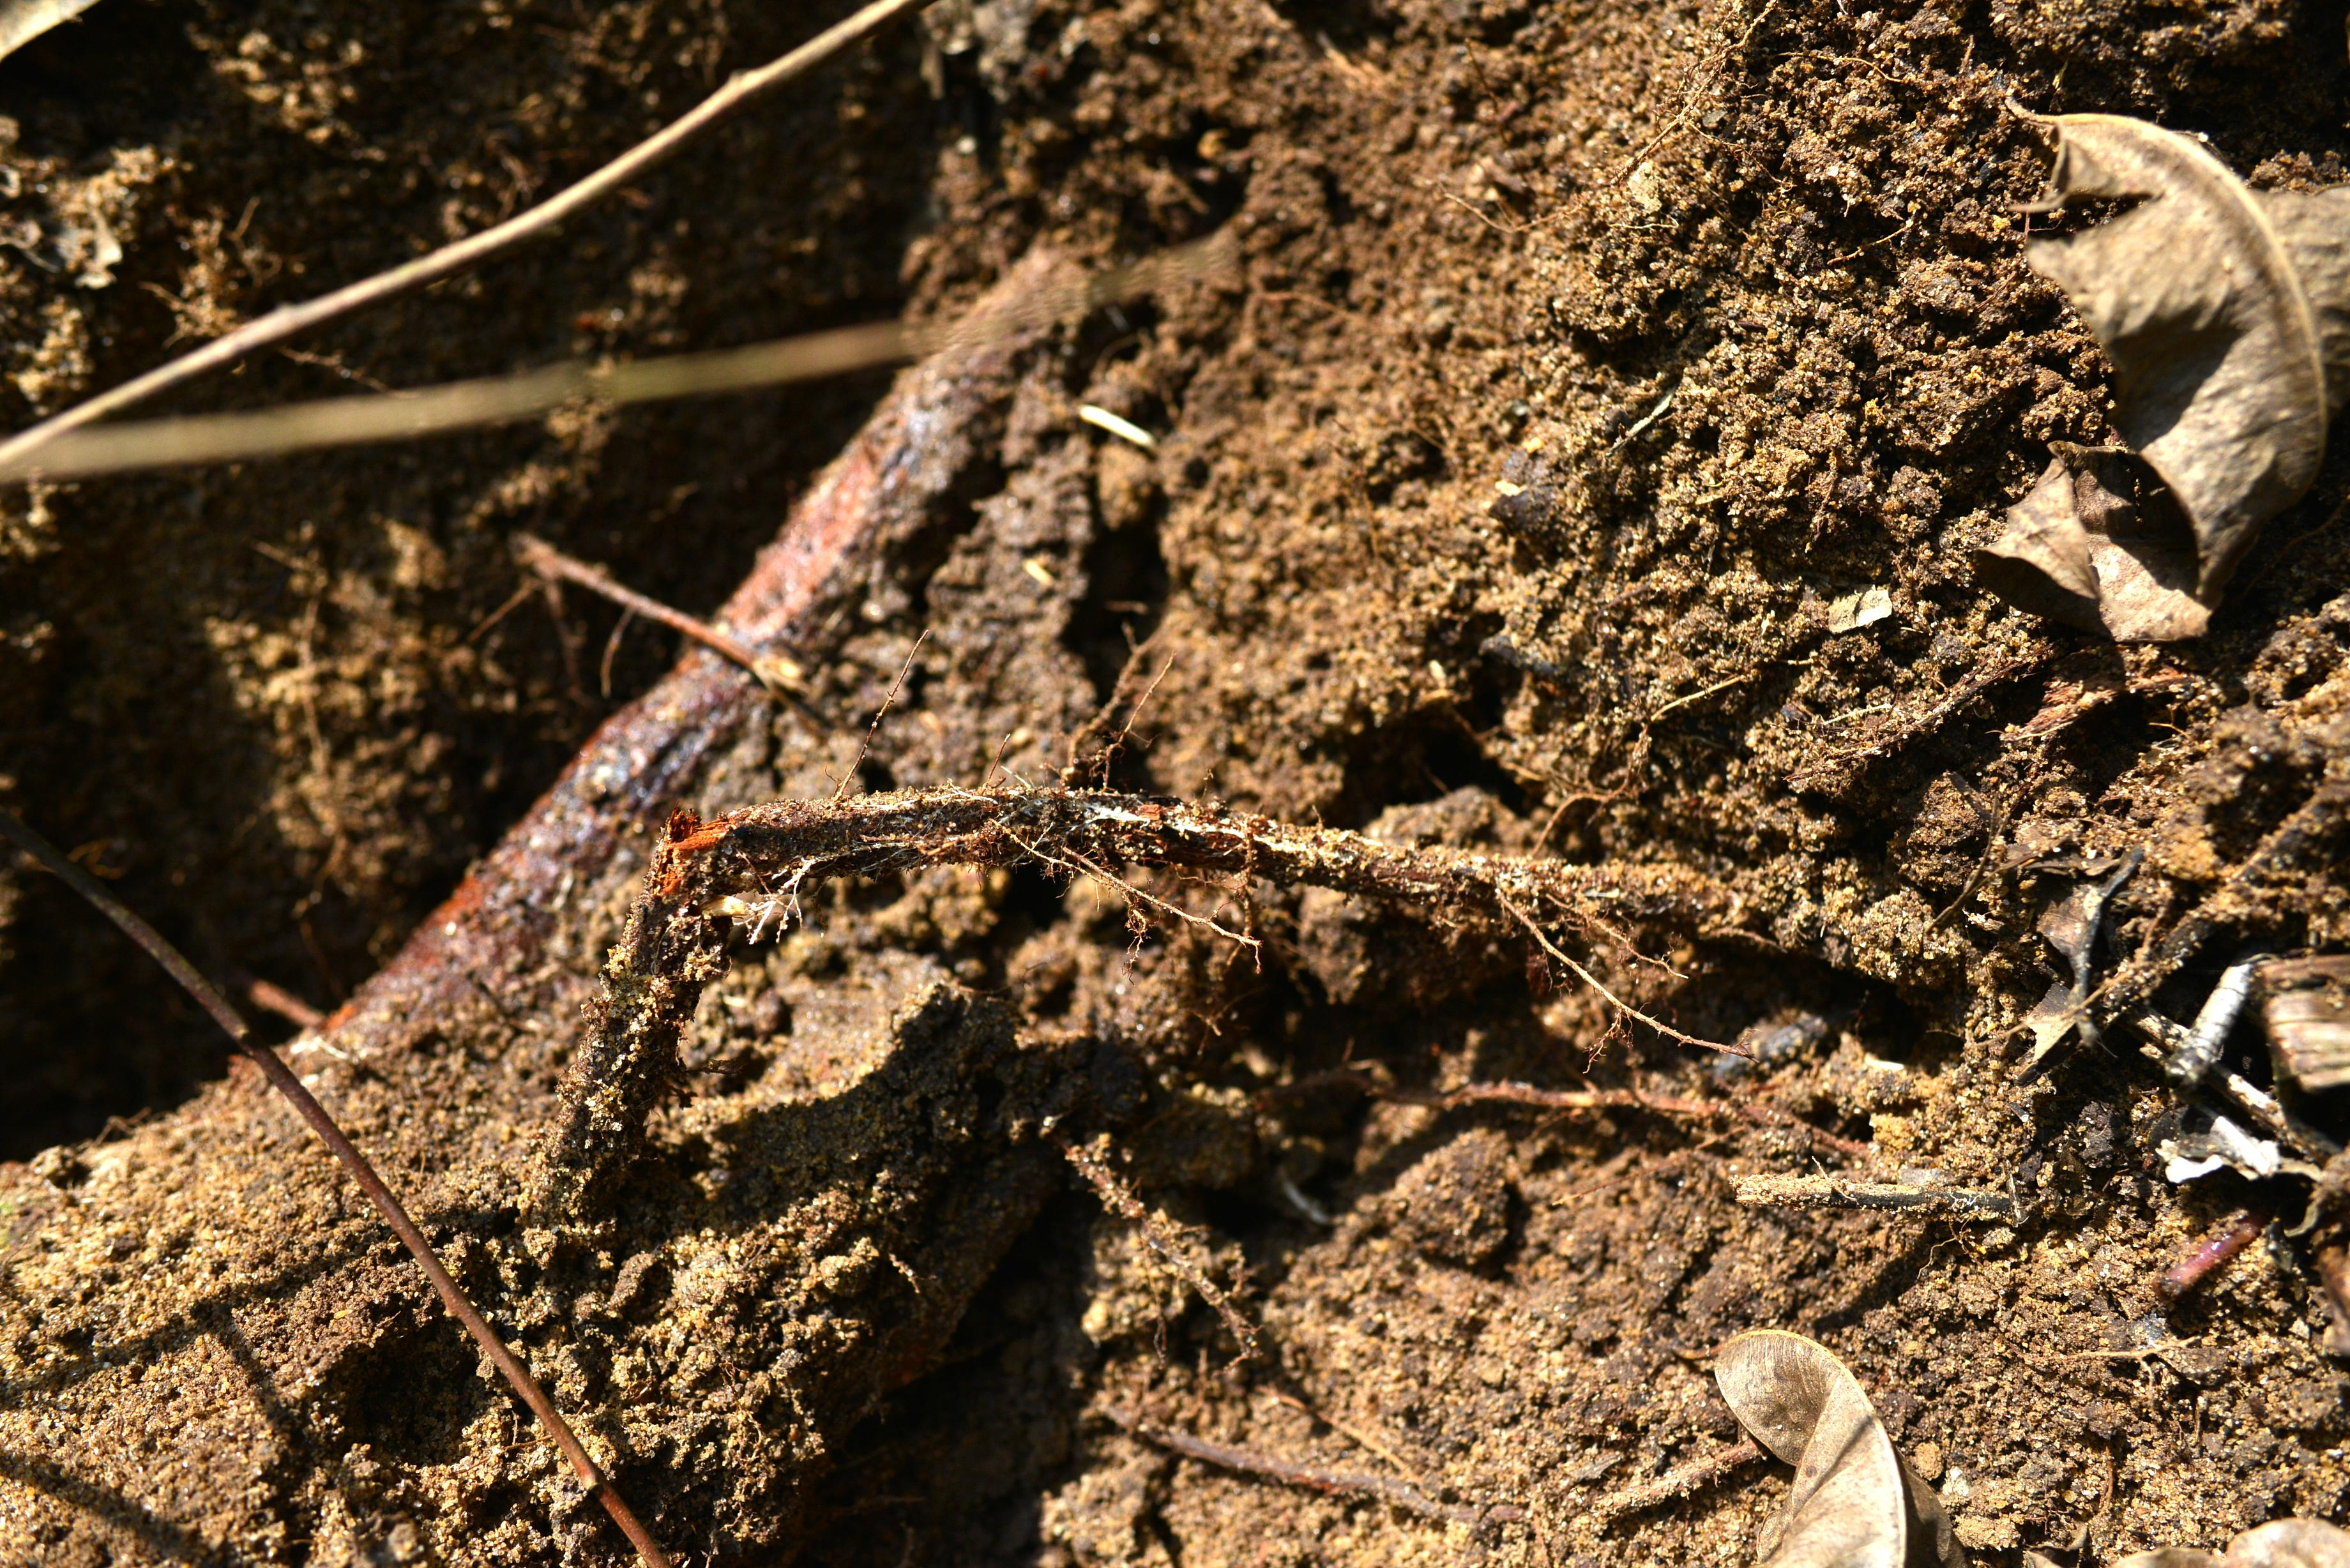Ganoderma - Mycelium: (401, 651, 709, 1010), (777, 371, 955, 637), (1066, 791, 1325, 863), (850, 789, 1041, 866), (1570, 859, 1713, 943), (1405, 843, 1550, 920), (747, 850, 822, 948)
Red Root Rot - Secretion: (418, 621, 719, 950), (649, 388, 927, 742), (301, 868, 546, 1088), (1141, 805, 1290, 885)
